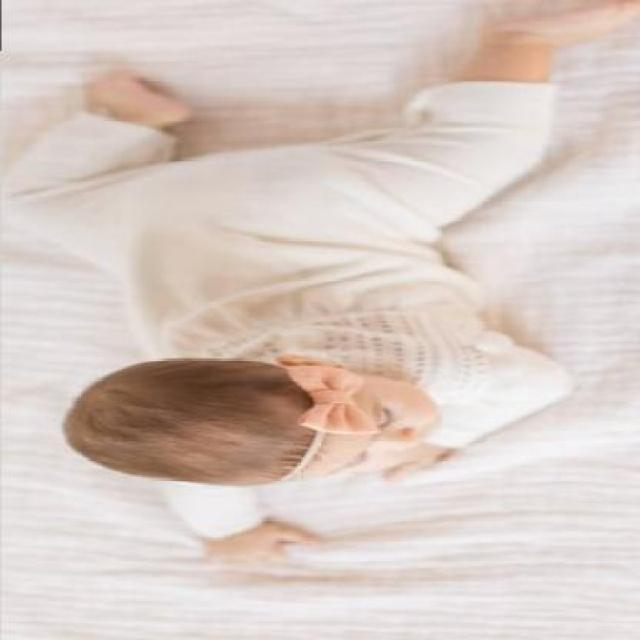baby: (60, 39, 554, 572)
